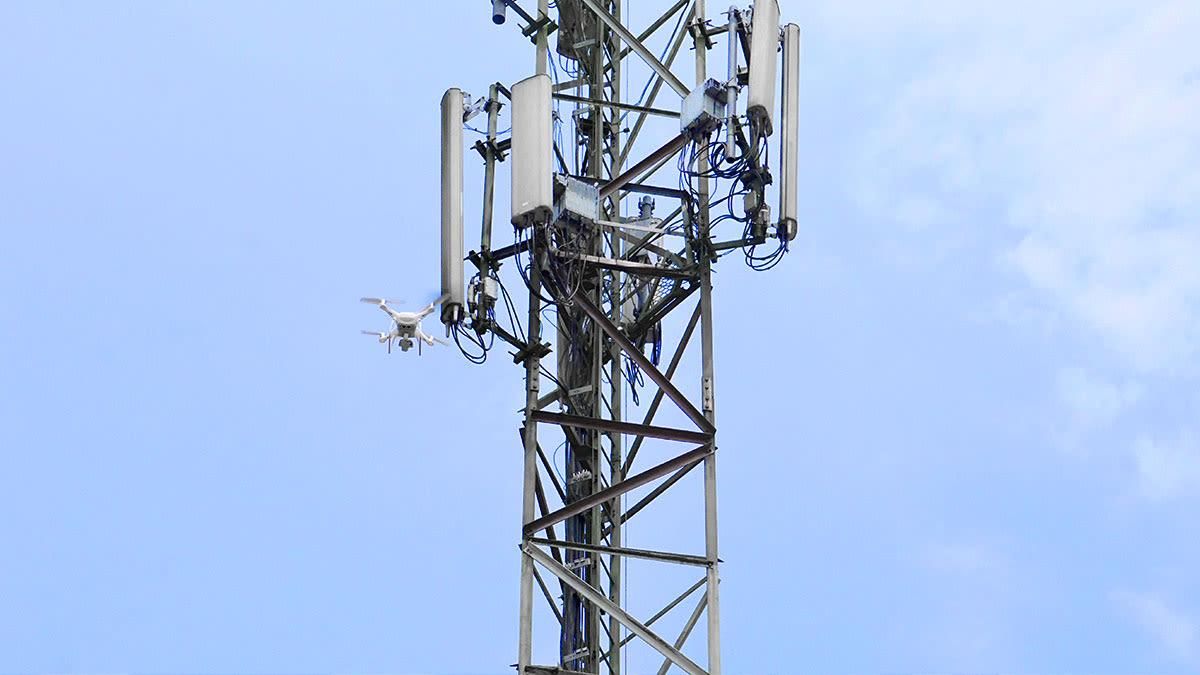antenna: (505, 52, 560, 229), (435, 79, 471, 314), (734, 0, 787, 124), (781, 18, 808, 247)
